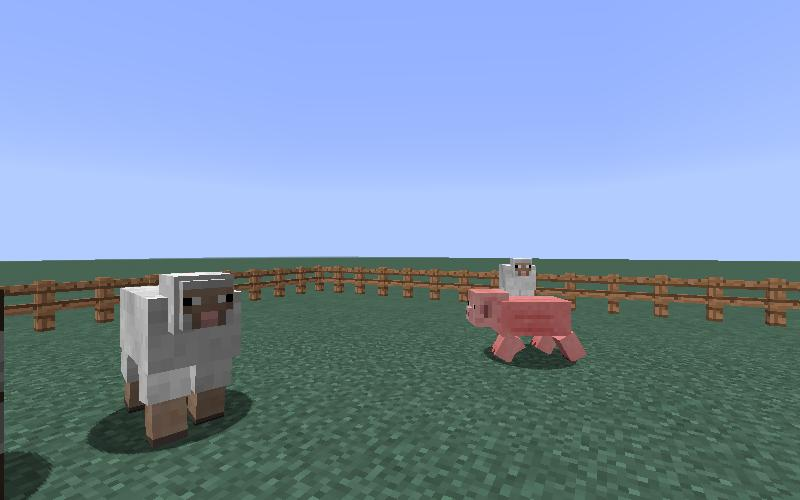pig: (463, 283, 586, 369)
sheep: (116, 268, 239, 449), (498, 257, 538, 296)
